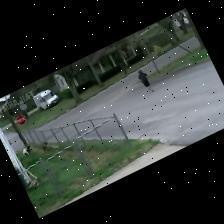person: (138, 70, 152, 91)
